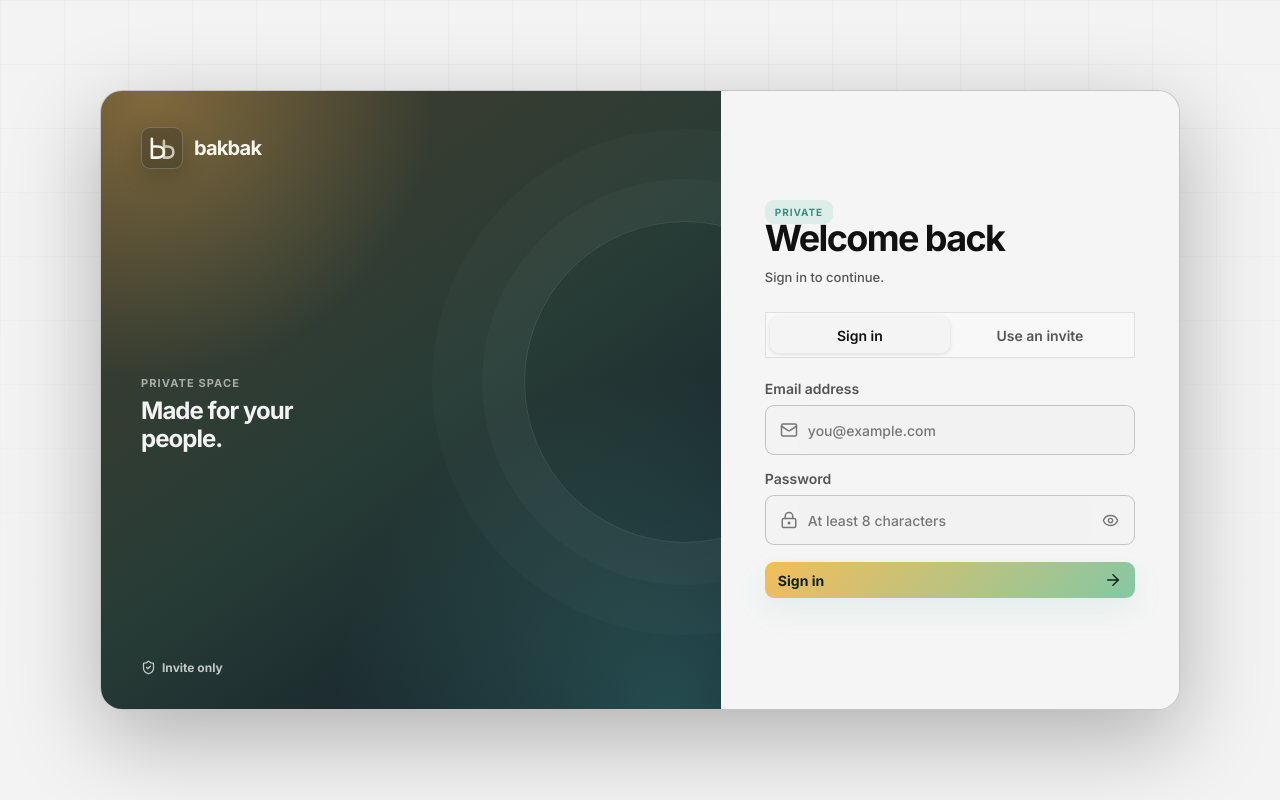
AuthScreen › switches between sign-in and invite access without losing form semantics
Expected: the heading "Welcome back" is shown, x1=765 y1=216 x2=1004 y2=260
Click the button named "Show password" at (1110, 520), box x1=1091 y1=501 x2=1129 y2=539
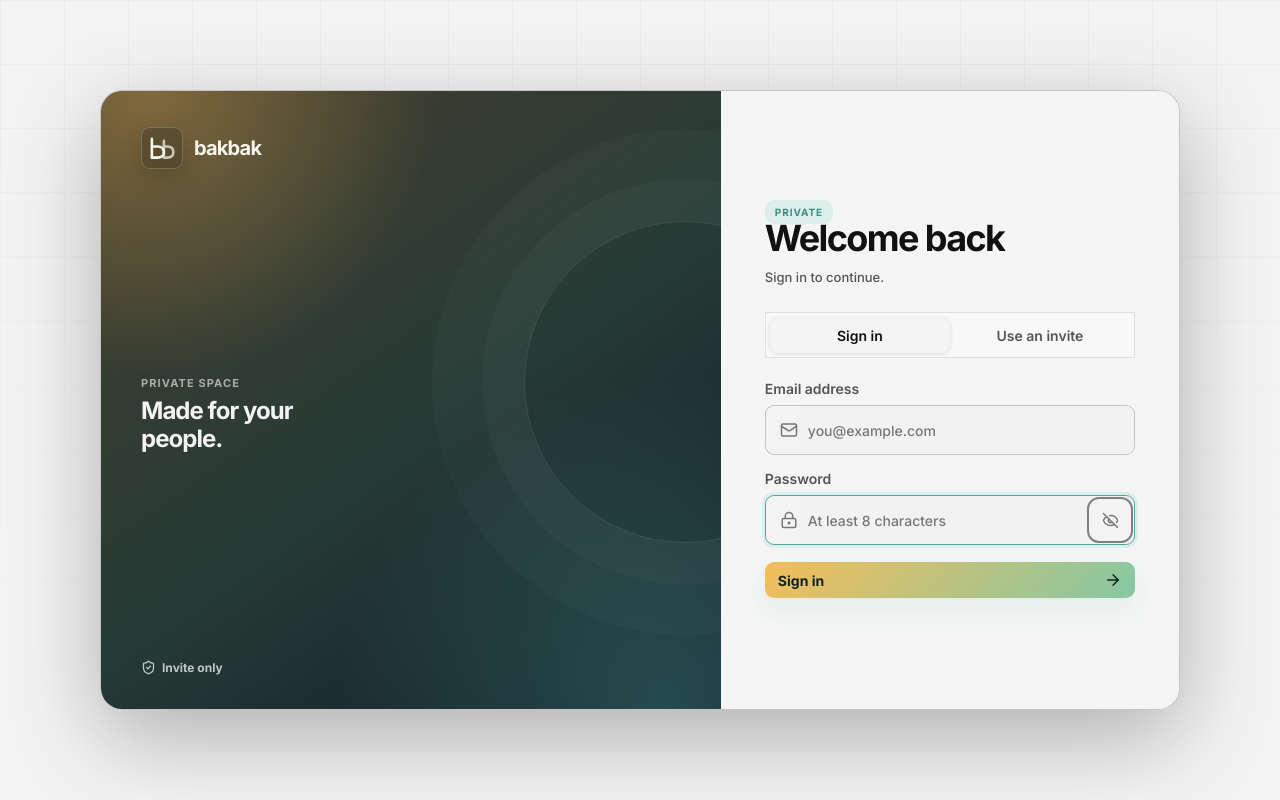
Click the tab "Use an invite" at (1040, 335), box x1=950 y1=317 x2=1130 y2=353
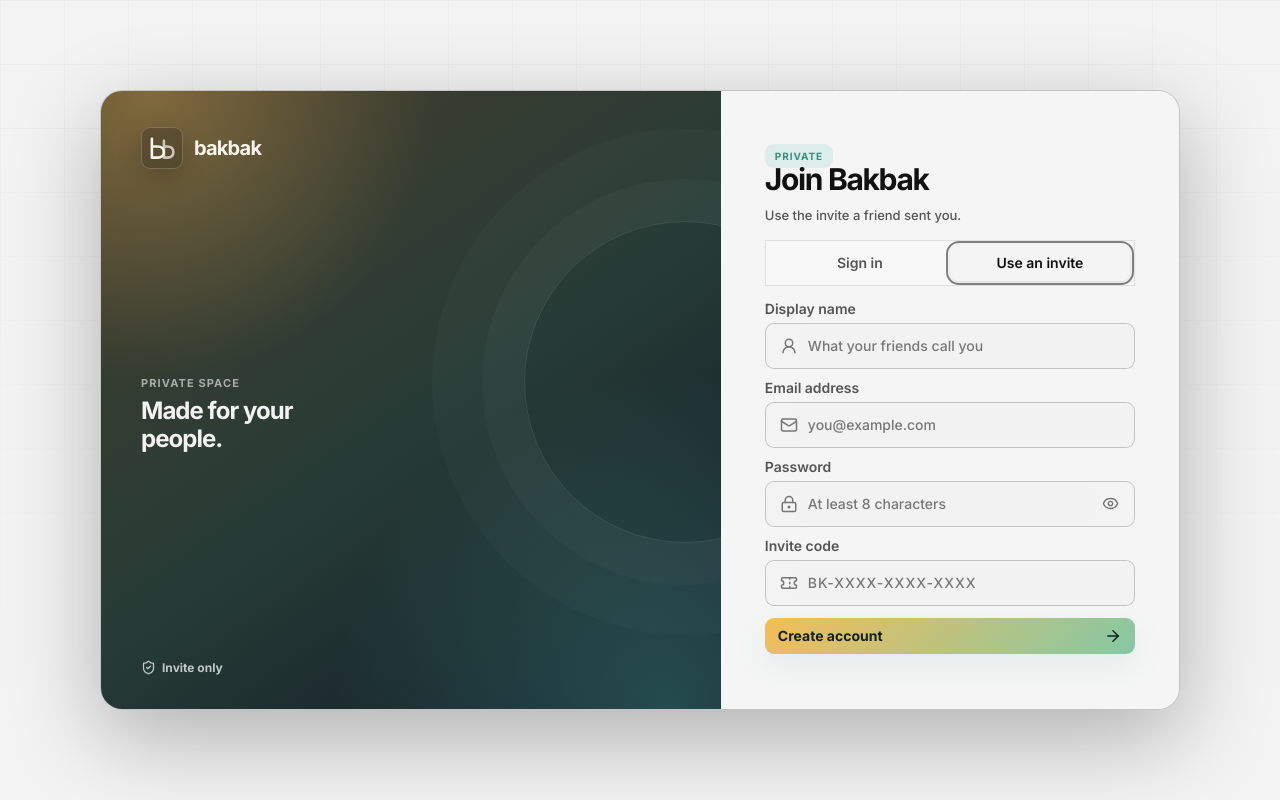
Expected: the heading "Join Bakbak" is shown, x1=765 y1=161 x2=928 y2=197
